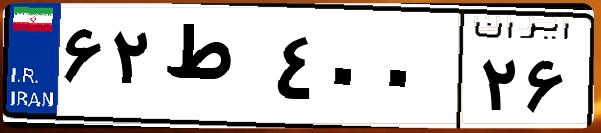0: (385, 28, 445, 110), (330, 28, 385, 110)
2: (475, 38, 525, 113), (110, 28, 158, 98)
4: (270, 28, 330, 110)
6: (57, 26, 110, 100), (525, 38, 570, 115)
ط: (158, 20, 270, 120)
